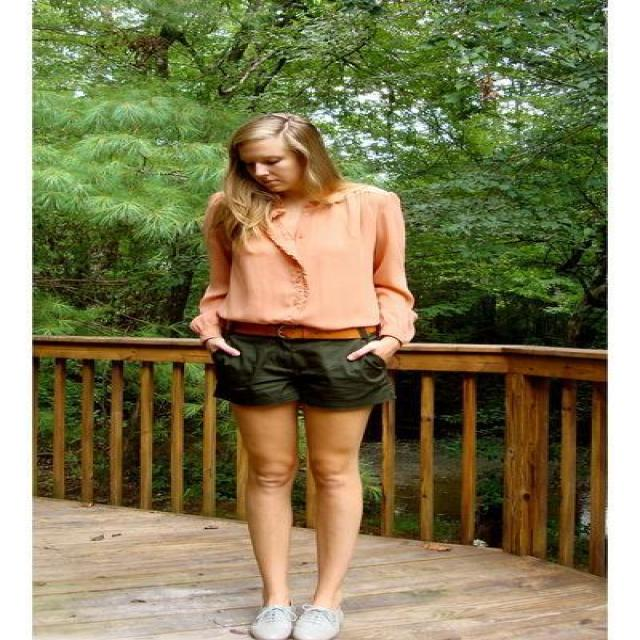shirt: (190, 181, 416, 350)
shoe: (253, 602, 341, 639)
shorts: (211, 346, 395, 421)
